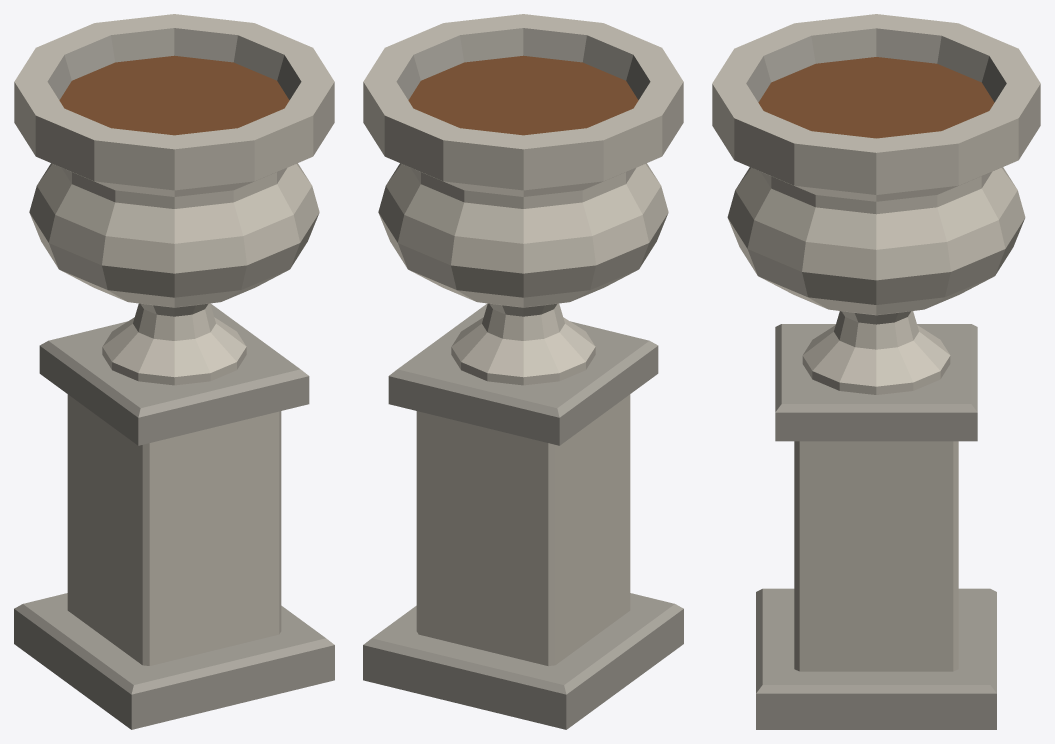
The model's file is FMS_Garden_Urn.fbx.
3 views of the same model, side by side, from view 1: azimuth 30°, elevation 25°; view 2: azimuth 150°, elevation 25°; view 3: azimuth 270°, elevation 25° (orthographic). The views are drawn at different scales.
Visible parts, largest first — view 1: FMS_Garden_Urn_Body; view 2: FMS_Garden_Urn_Body; view 3: FMS_Garden_Urn_Body.
Part boxes in pixels (box(x1,y1,x2,y2)): FMS_Garden_Urn_Body: box(14, 14, 334, 729); FMS_Garden_Urn_Body: box(363, 14, 683, 729); FMS_Garden_Urn_Body: box(712, 14, 1040, 729).
Size of the model in its own units: 0.6 by 1.2 by 0.6.
1 material, 1 textured.
